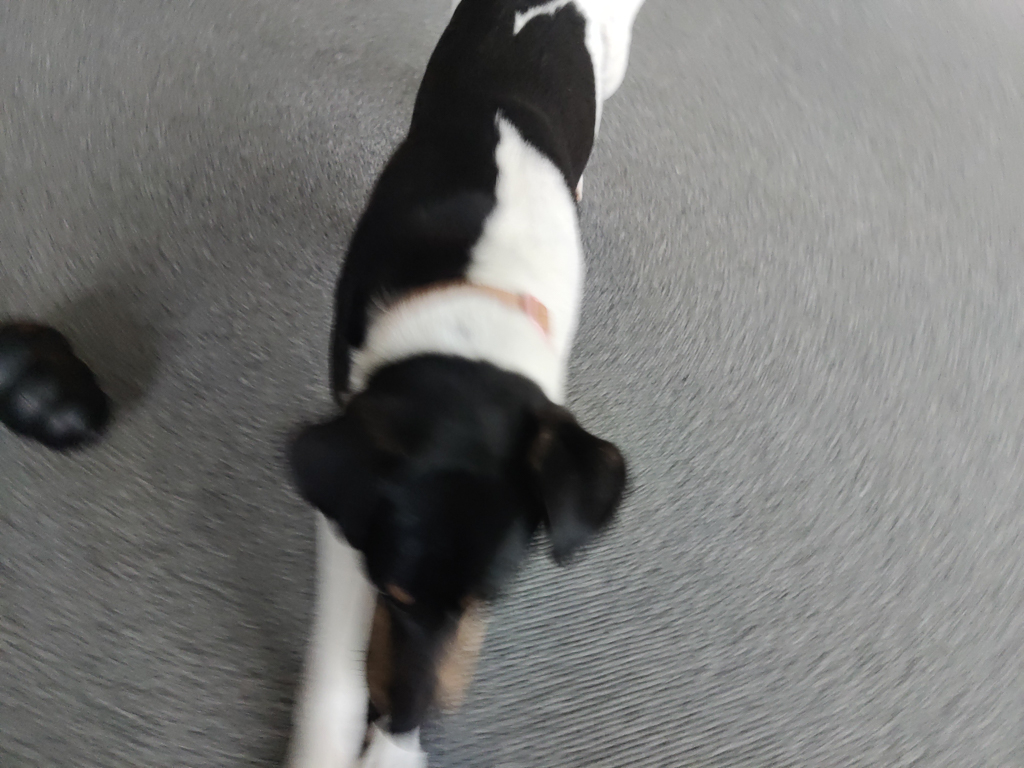Dog: (252, 0, 692, 768)
